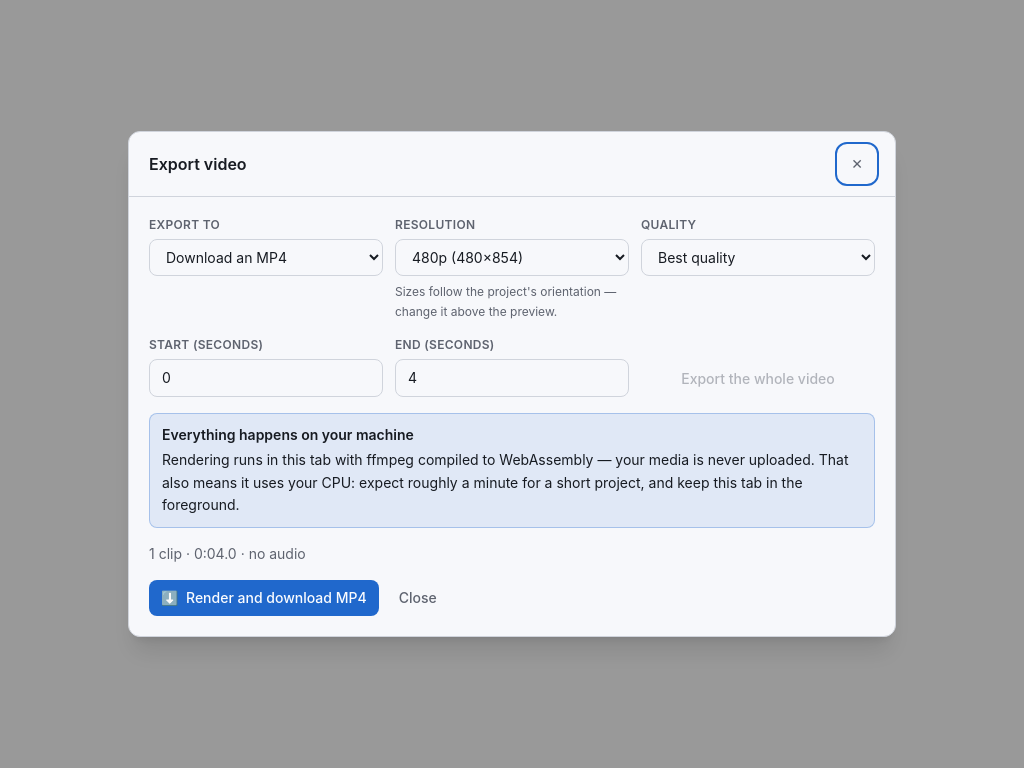
Test: choosing where an export goes › offers Mintspace as a destination
Select "Publish to Mintspace" in the dropdown labelled "Export to": (266, 258) [149, 239, 383, 276]
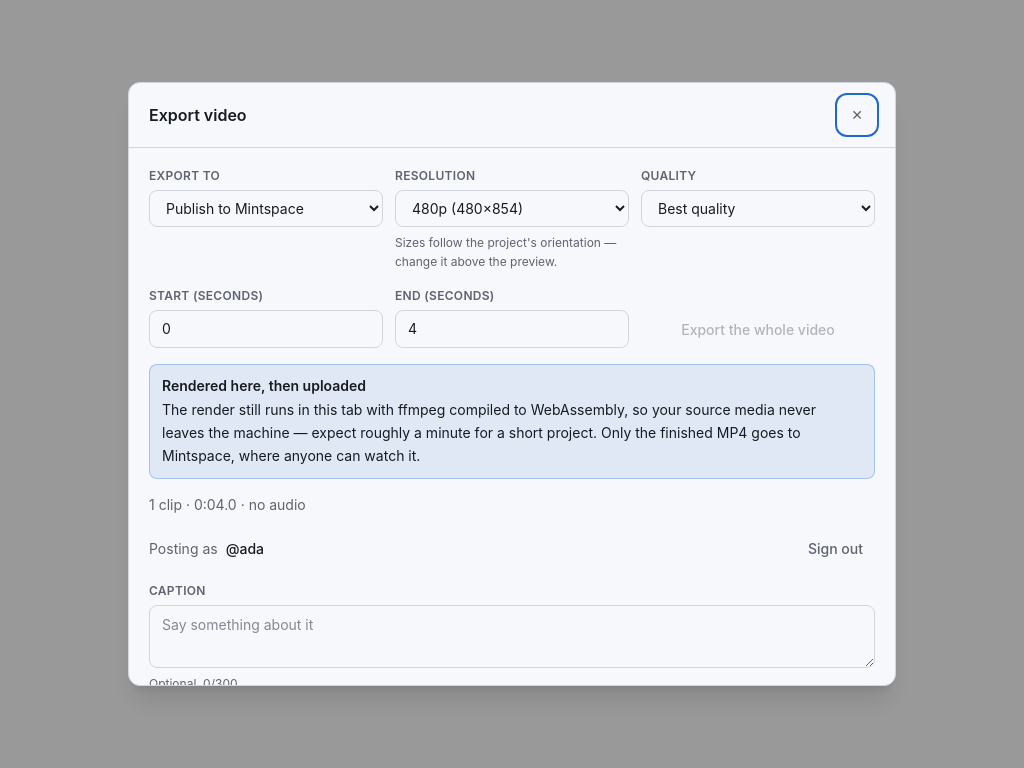
expect the button "download MP4" is gone: met
